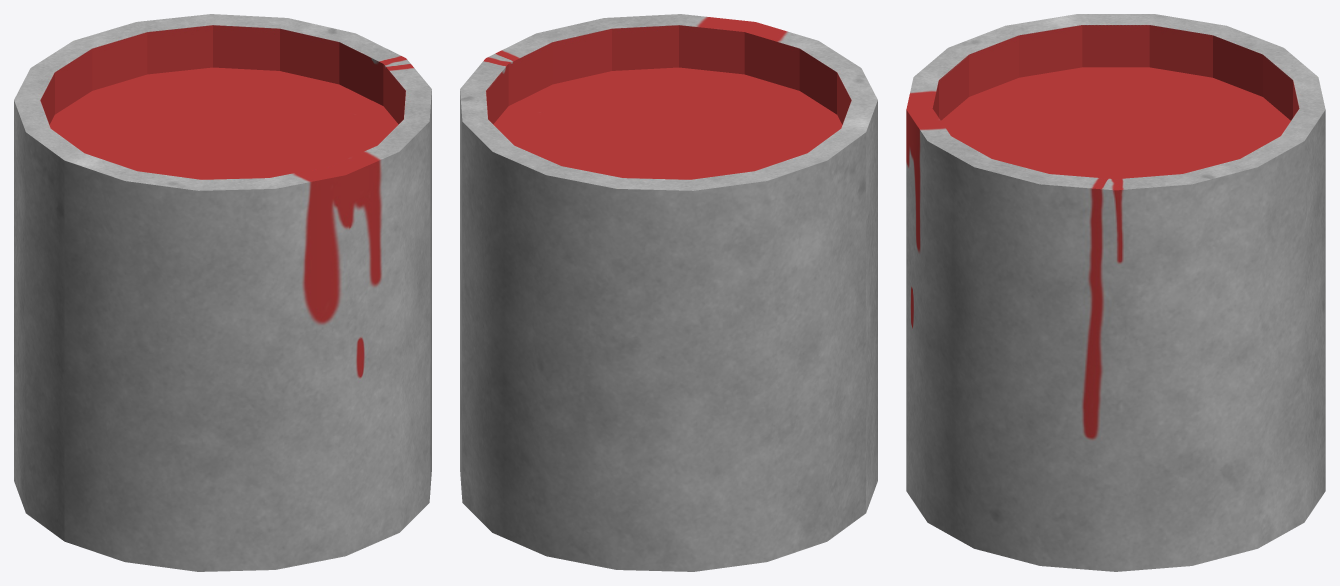
File: paint_bucket_with_red_paint.glb
3 renders of one model, left to right at view 1: azimuth 30°, elevation 25°; view 2: azimuth 150°, elevation 25°; view 3: azimuth 270°, elevation 25°, orthographic.
Visible parts, largest first — view 1: pCylinder1; view 2: pCylinder1; view 3: pCylinder1.
Boxes of the visible parts, x1,y1,x2,y2 form: pCylinder1: (14, 14, 431, 571); pCylinder1: (460, 14, 877, 571); pCylinder1: (906, 14, 1325, 571).
Size of the model in its own units: 5.31 by 5.35 by 5.33.
1 material, 1 textured.
